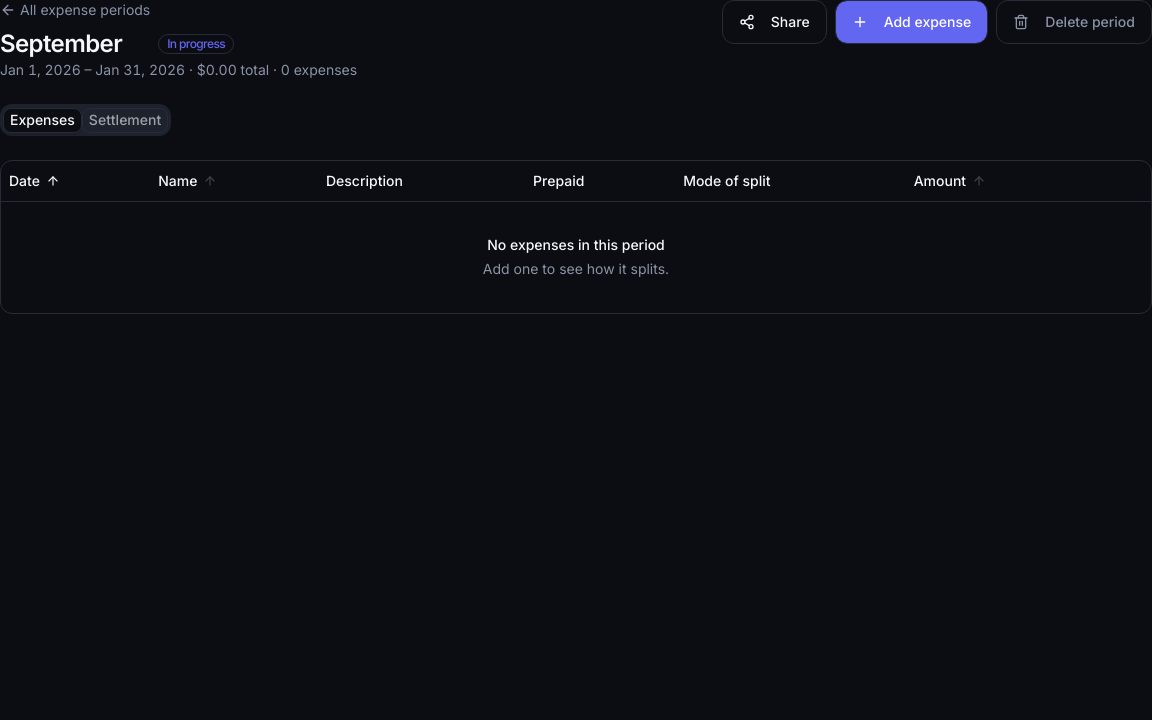
Test: checklist: expenses › saves a prepaid expense split equally, so the fronting member nets negative
Click the button "Add expense" at (911, 22), box [835,0,988,44]
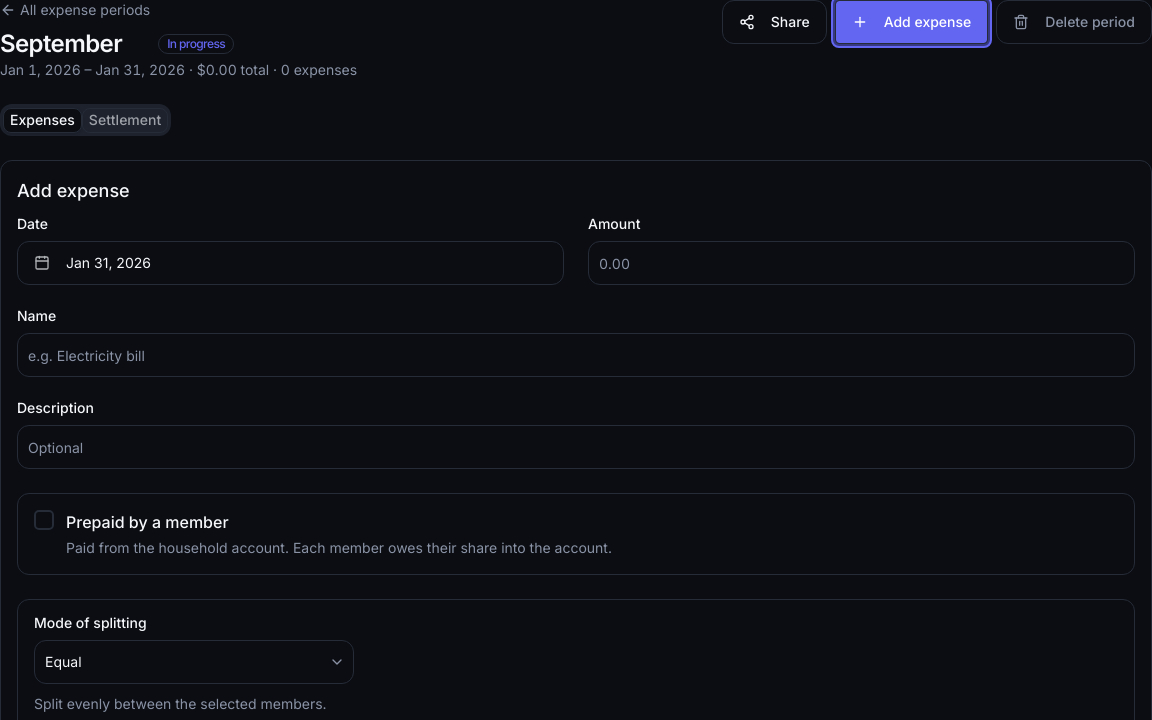
expect the field labelled "Name" is shown: met
Type "Groceries" into the field labelled "Name" at (576, 355), box [17,333,1135,377]
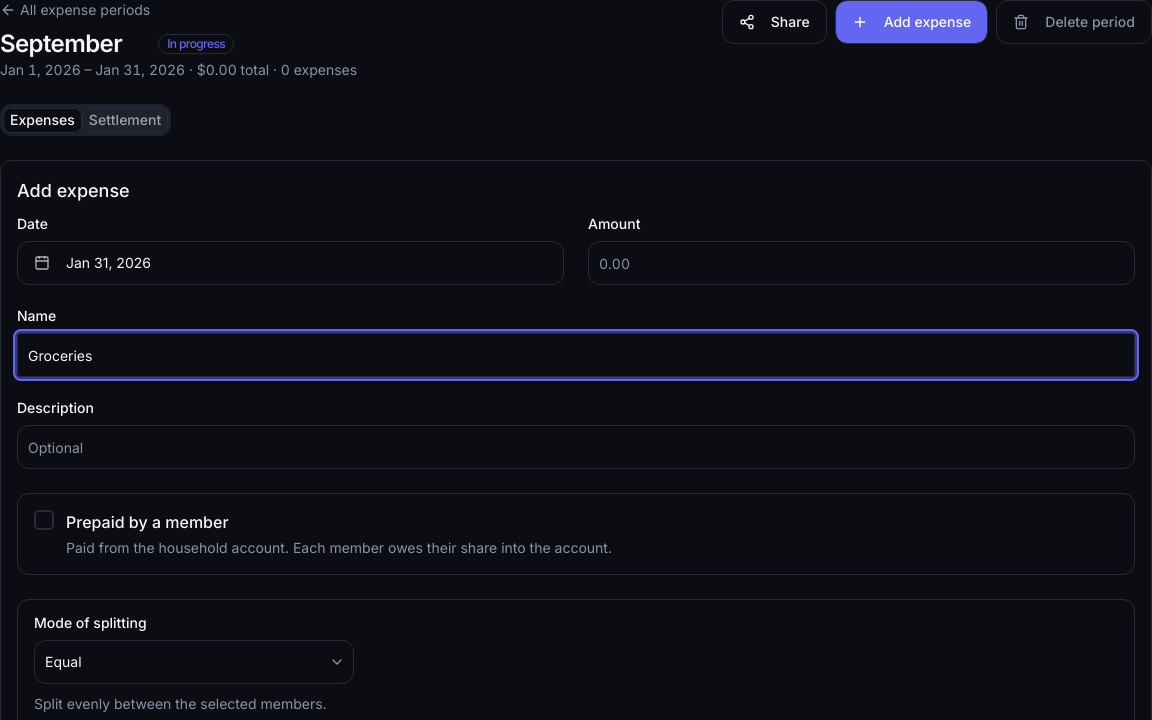
Type "90" into the field labelled "Amount" at (862, 263), box [588,241,1135,285]
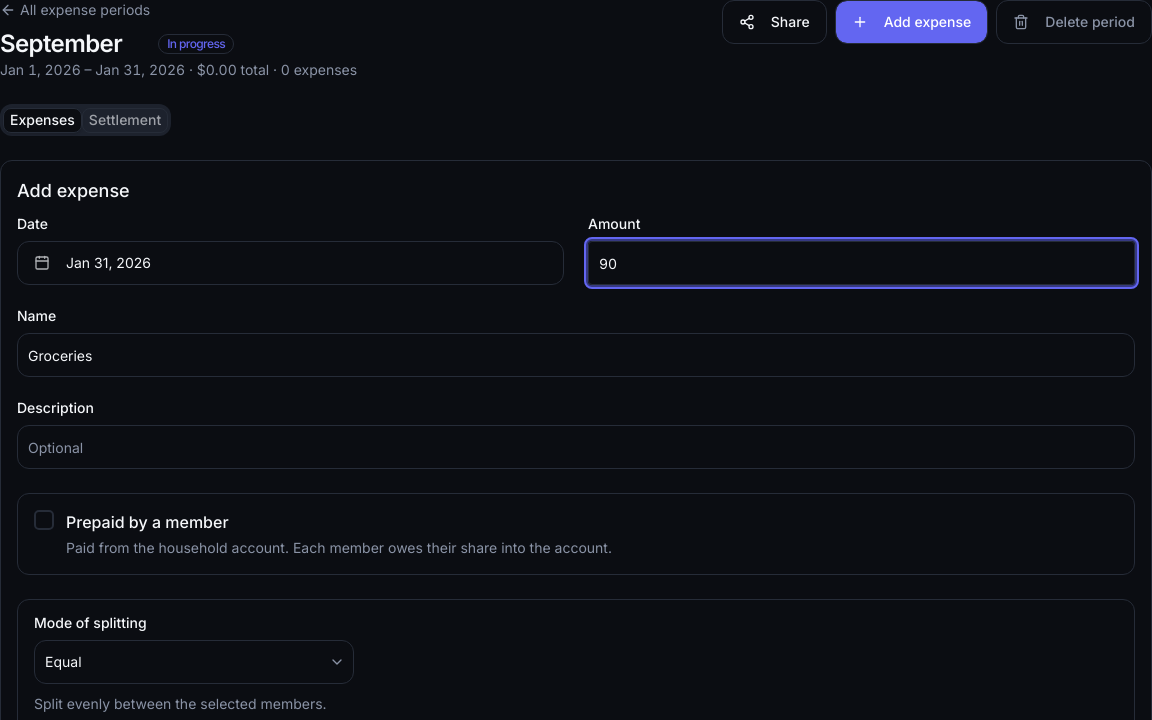
Click the checkbox named "prepaid by a member" at (44, 520), box [34,510,54,530]
(page scrolled)
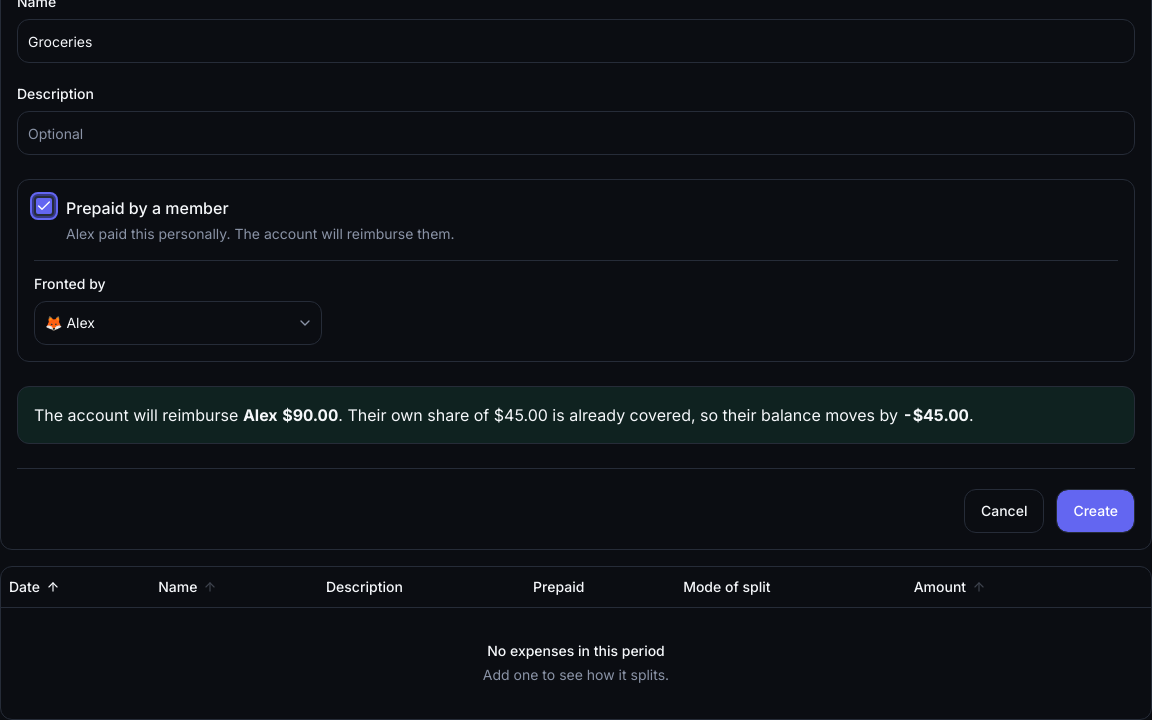
Click the button "Create" at (1096, 511), box [1056,489,1135,533]
(page scrolled)
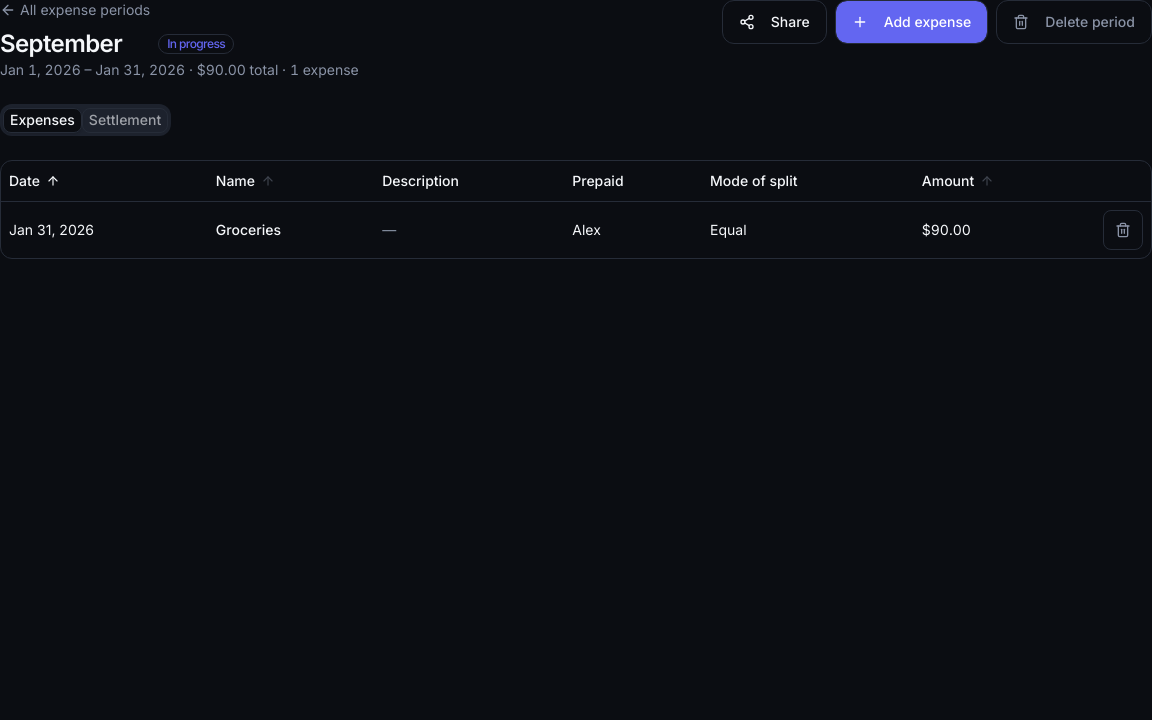
Click the tab "Settlement" at (125, 120), box [82,108,168,132]
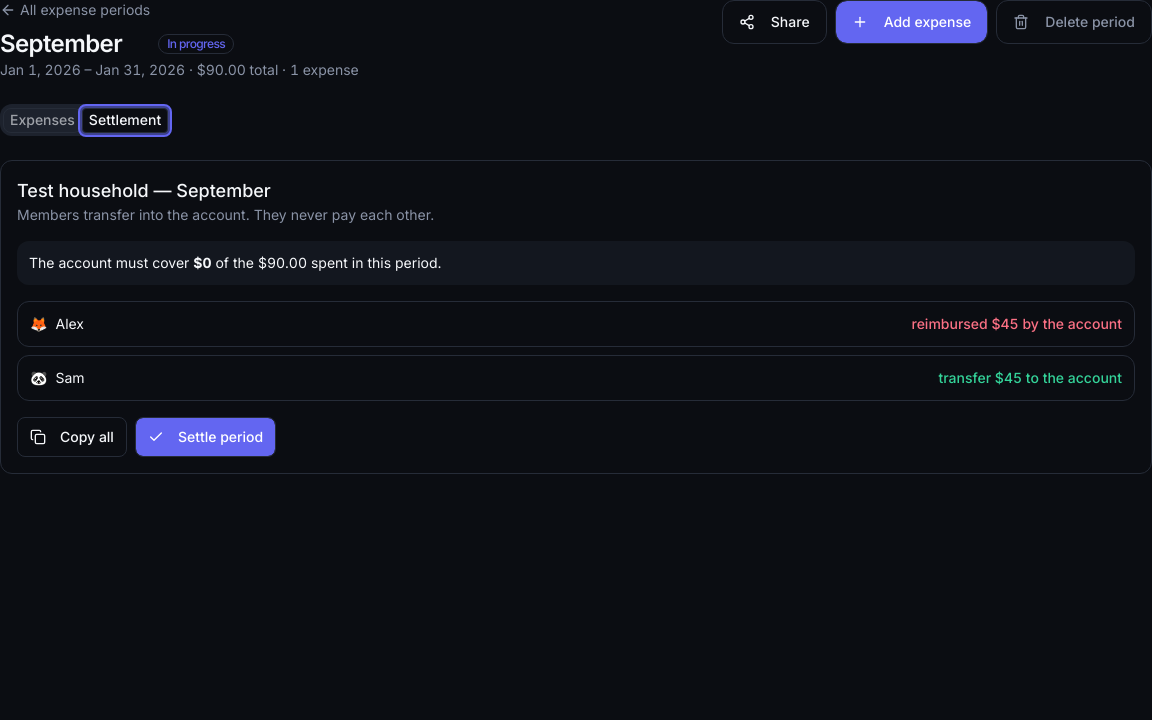
expect the text "reimbursed $45 by the account" is shown: met, box [912,315,1122,332]
expect the text "transfer $45 to the account" is shown: met, box [938,369,1122,386]
